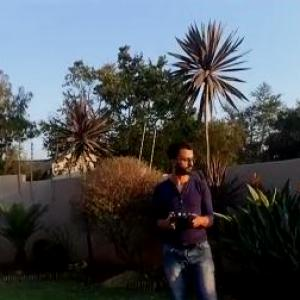follow: (156, 134, 227, 299)
